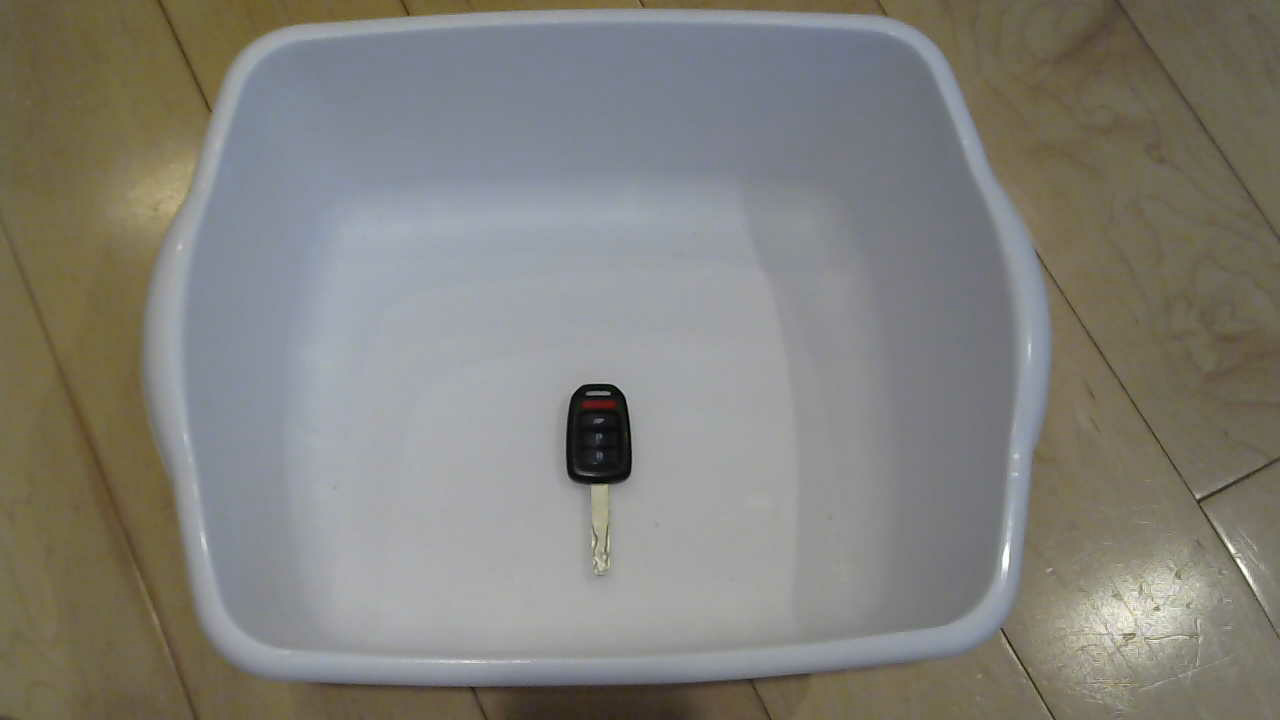key: (553, 383, 662, 583)
